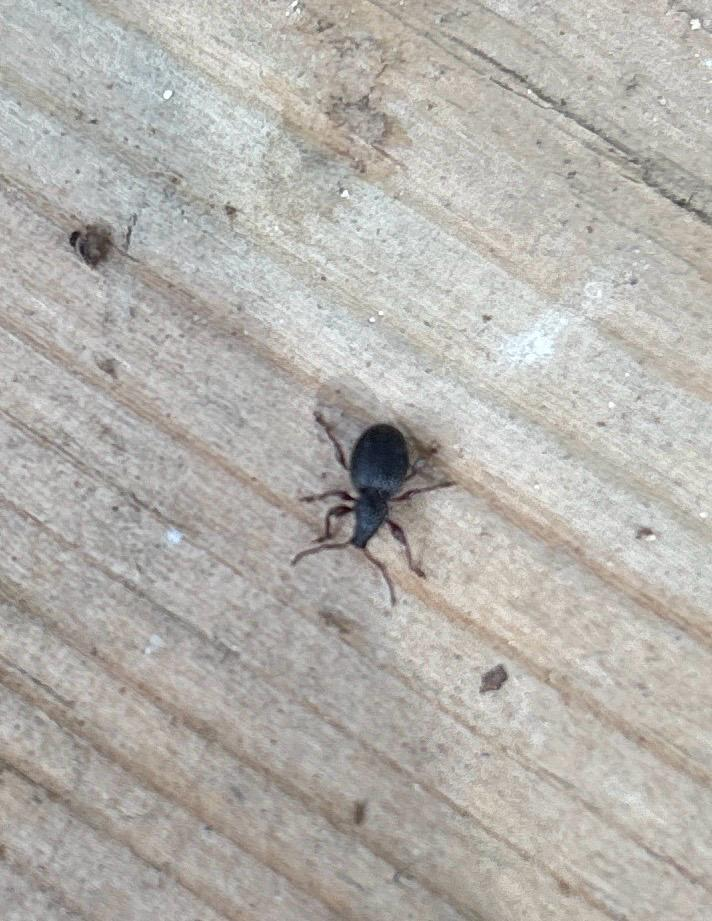weevils: (262, 380, 485, 629)
